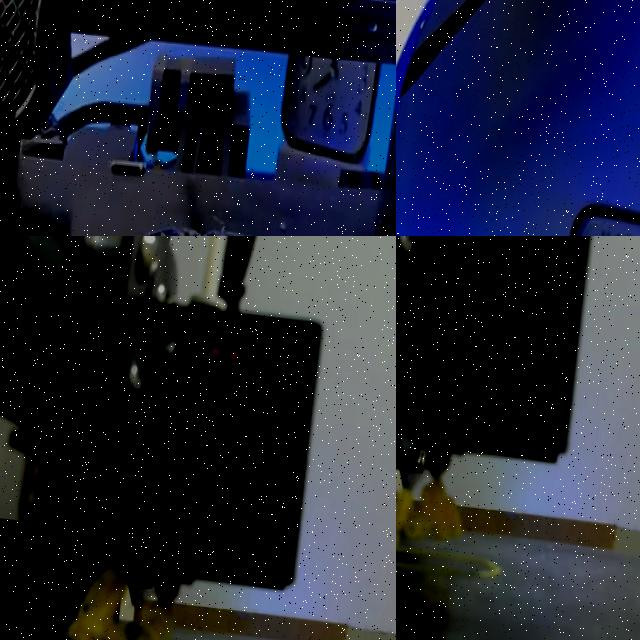spaghetti: (67, 564, 132, 640), (396, 478, 461, 546)
